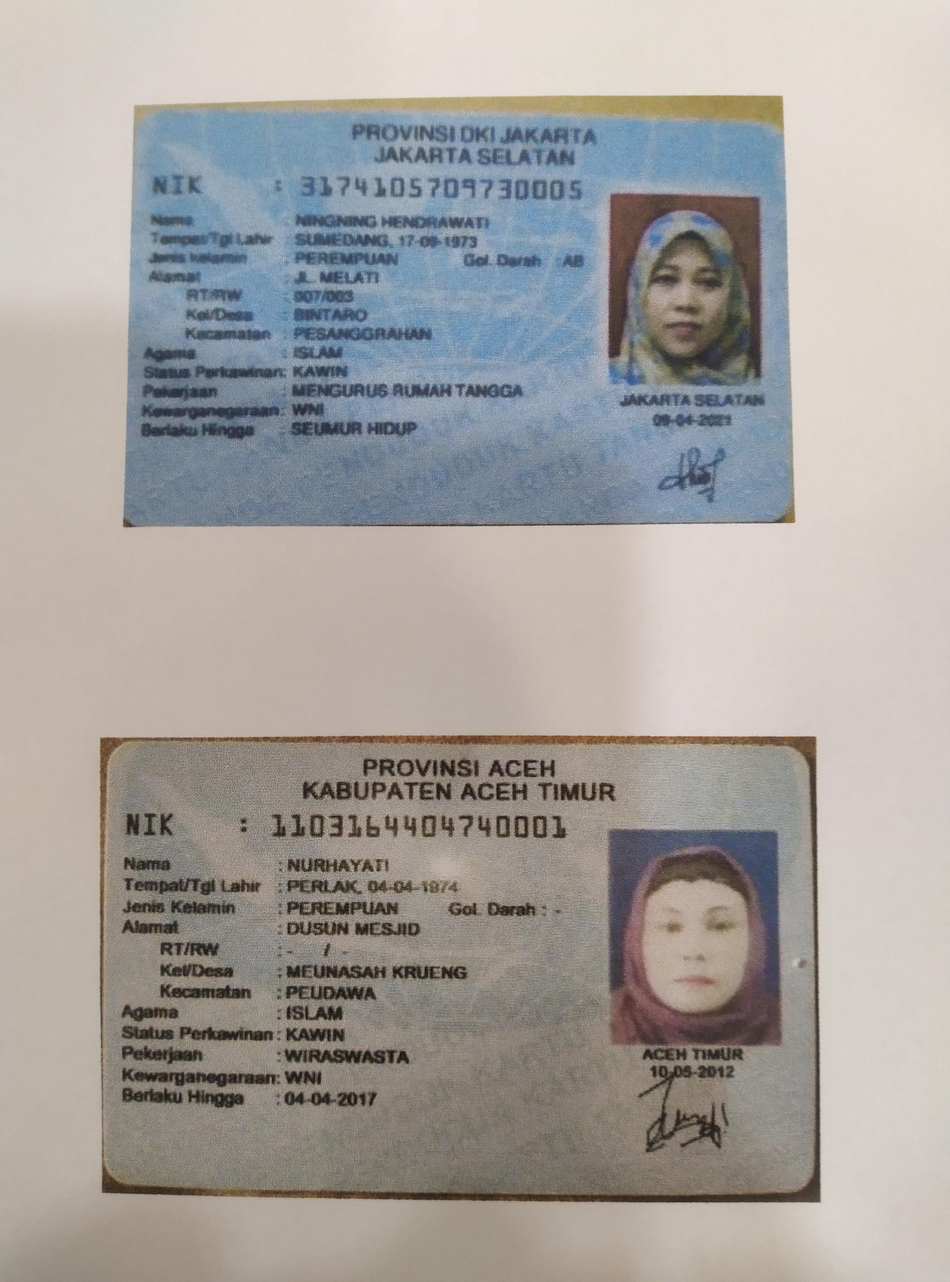ktp: (100, 739, 808, 1190), (131, 114, 783, 510)
